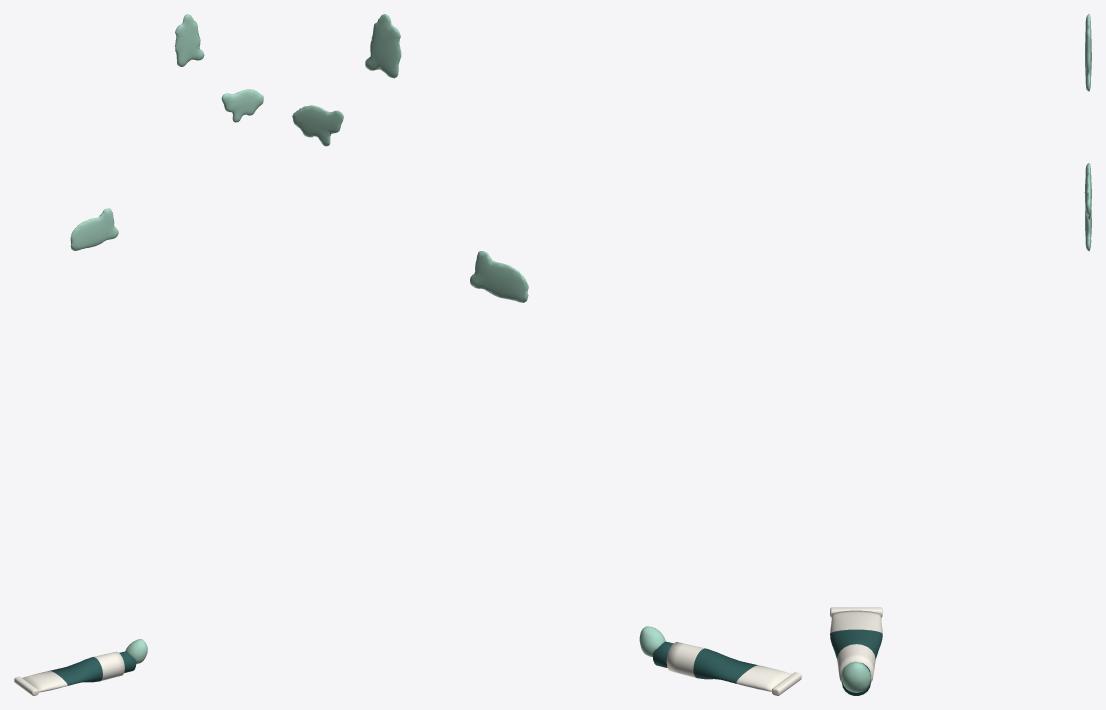
The model's file is toothpaste.glb.
3 views of the same model, side by side, from view 1: azimuth 30°, elevation 25°; view 2: azimuth 150°, elevation 25°; view 3: azimuth 270°, elevation 25° (orthographic). The views are drawn at different scales.
Visible parts, largest first — view 1: TubeBody, SplatMesh2, SplatMesh3, SplatMesh1; view 2: TubeBody, SplatMesh2, SplatMesh3, SplatMesh1; view 3: TubeBody, GlobMesh, SplatMesh3.
Boxes of the visible parts, x1,y1,x2,y2 form: TubeBody: (22,651,124,692); SplatMesh2: (70,208,118,250); SplatMesh3: (175,14,204,66); SplatMesh1: (221,89,263,122); TubeBody: (666,642,791,691); SplatMesh2: (470,251,528,302); SplatMesh3: (365,14,401,78); SplatMesh1: (292,105,343,146); TubeBody: (830,610,882,682); GlobMesh: (841,661,870,692); SplatMesh3: (1085,14,1091,91).
Bounding box in the file's own units: 0.5736 × 0.9491 × 0.289.
